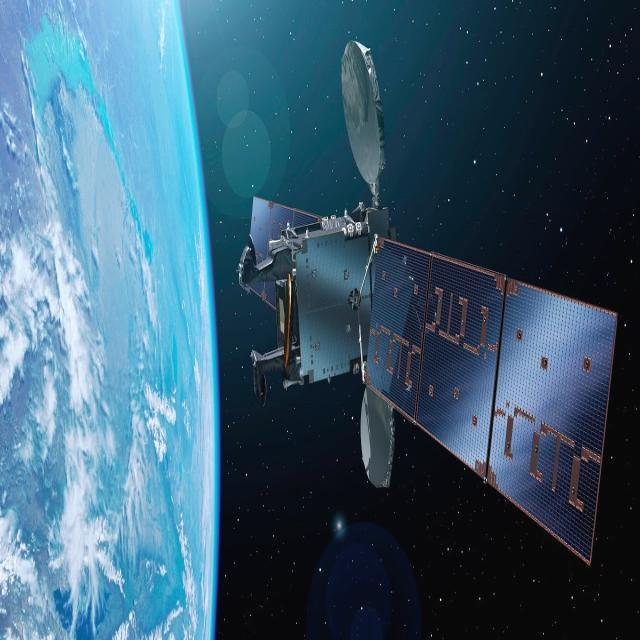medium_debris: (246, 39, 621, 559)
